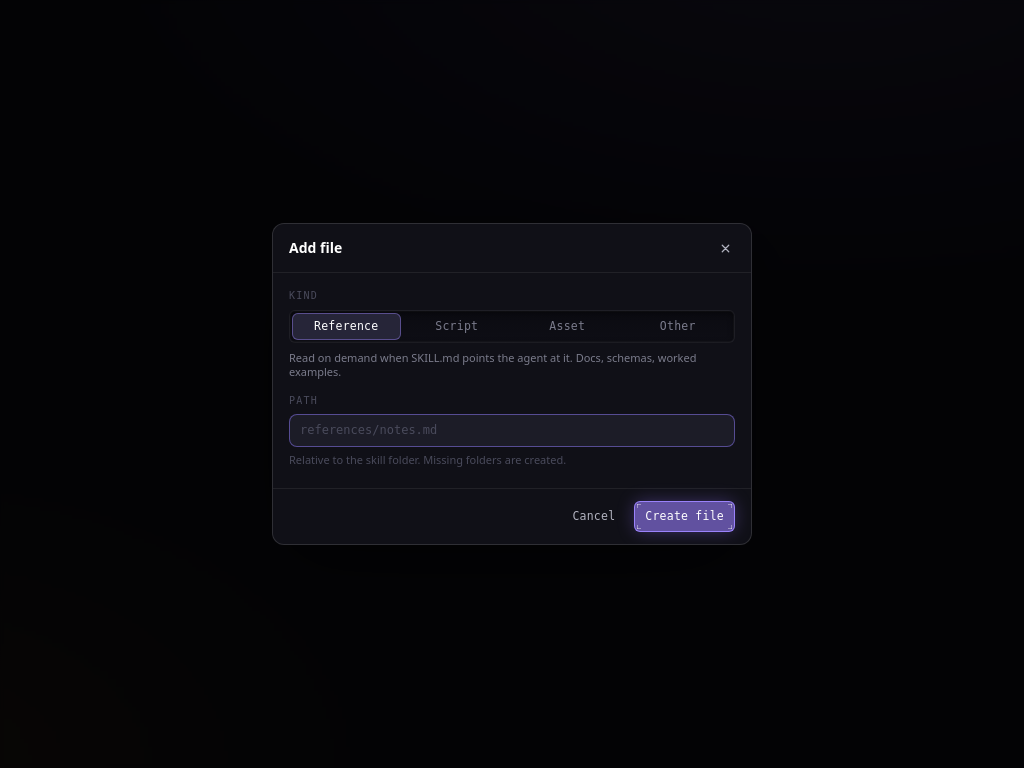
Test case: AddSkillFileSheet › Backspace at the start of an empty name un-types the prefix
Check: the radio button labelled "Reference" is checked, box [292,313,400,340]
Press Backspace in the field with test id "skill-files-path", box [380,415,734,446]
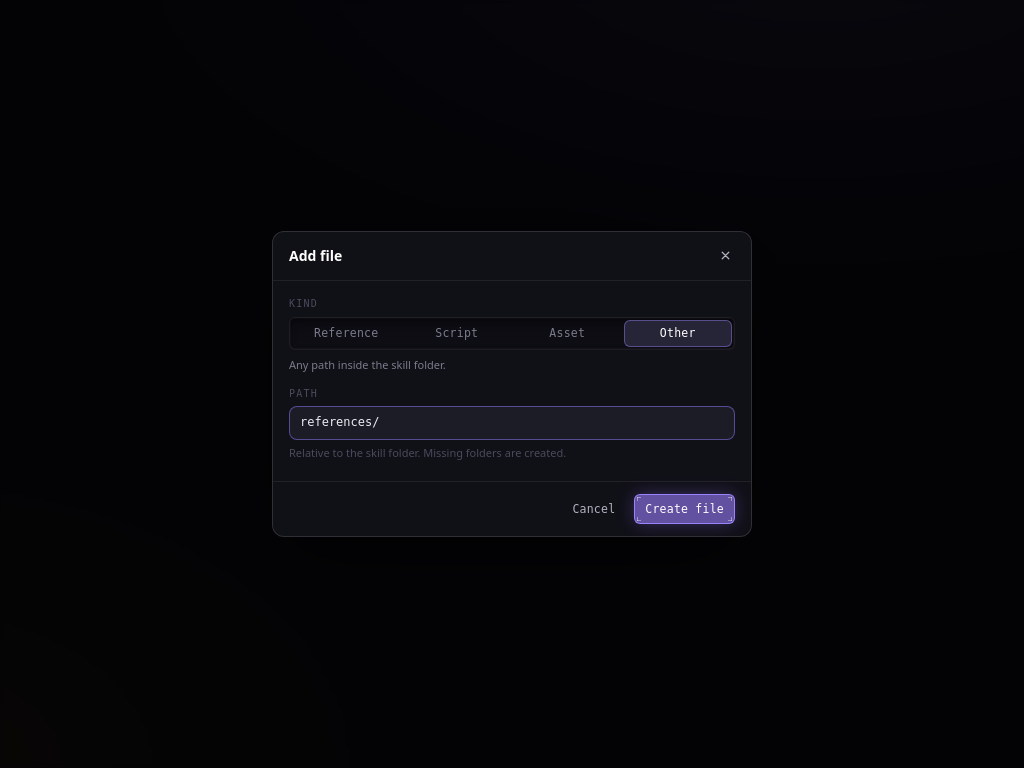
Check: the radio button labelled "Other" is checked, box [624,320,732,347]
Check: the field with test id "skill-files-path" holds "references/"
Check: the text with test id "skill-files-prefix" is gone
// Typing the slash back absorbs it again: the two directions agree.
Replace the text in the field with test id "skill-files-path" with "scripts/" at (512, 423), box [290,407,734,439]
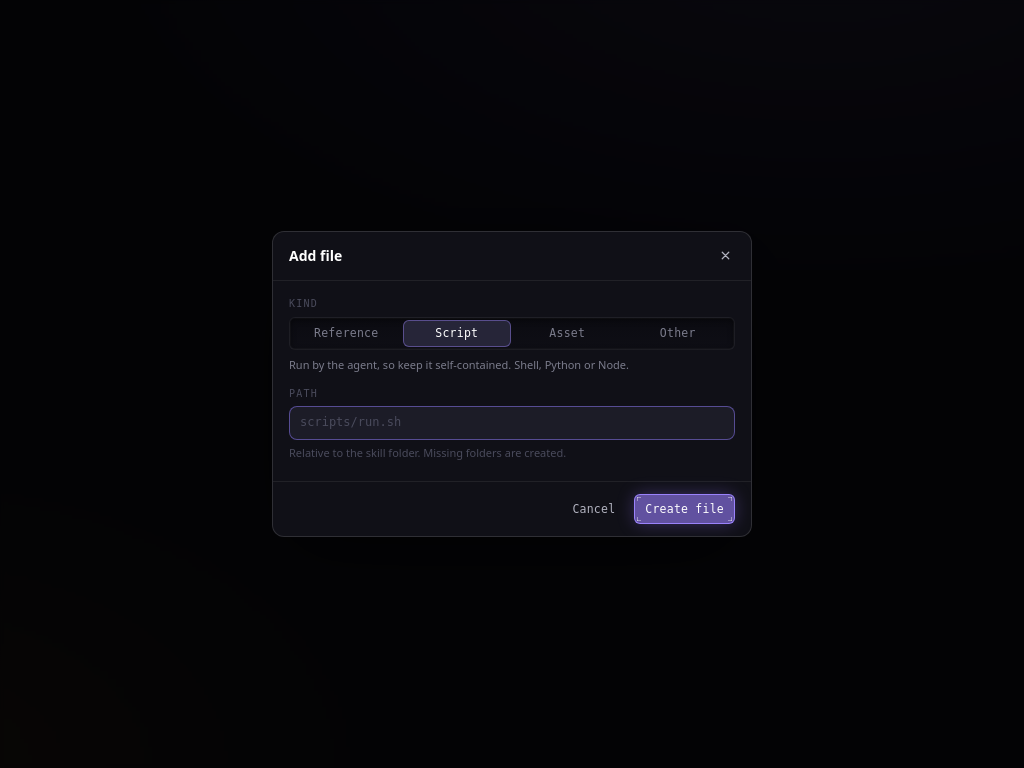
Check: the radio button labelled "Script" is checked, box [402,320,511,347]
Check: the field with test id "skill-files-path" is empty, box [358,407,734,439]
